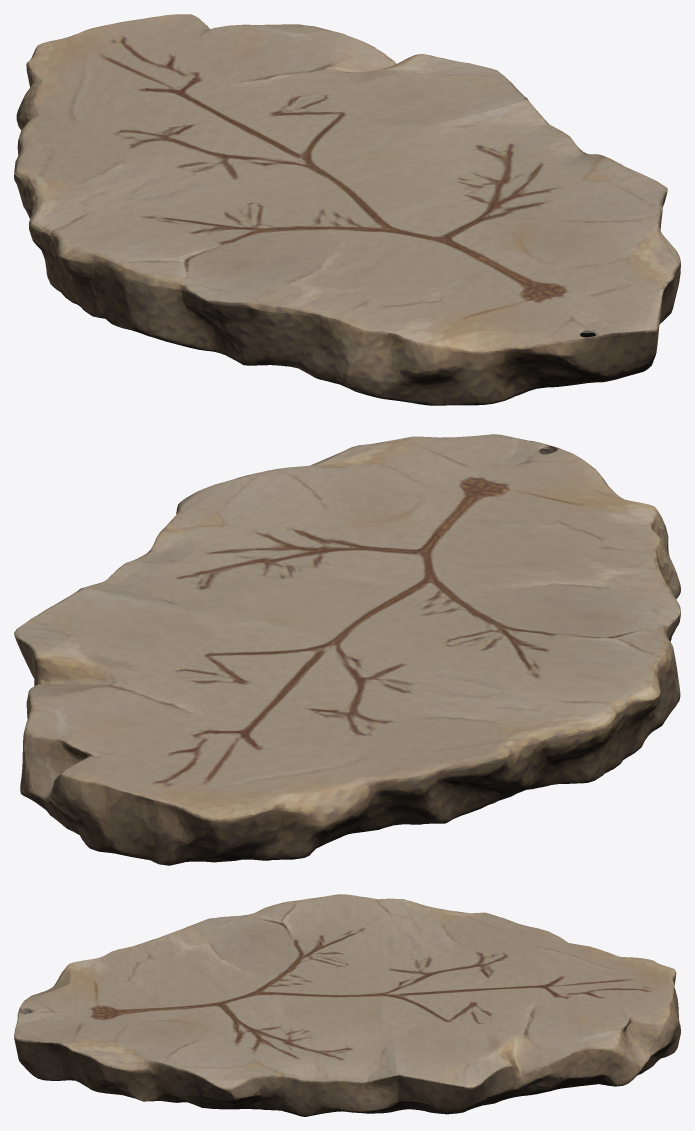
3 views of the same model, one above another, from view 1: azimuth 30°, elevation 25°; view 2: azimuth 150°, elevation 25°; view 3: azimuth 270°, elevation 25° (orthographic). The views are drawn at different scales.
Parts seen in each view (by area): view 1: world; view 2: world; view 3: world.
Boxes of the visible parts, box(x1,y1,x2,y2) form: world: box(14, 14, 680, 405); world: box(14, 434, 680, 865); world: box(14, 894, 680, 1116).
Bounding box in the file's own units: 0.0682 × 0.009 × 0.1.
Materials: 1 (1 with a texture image).
